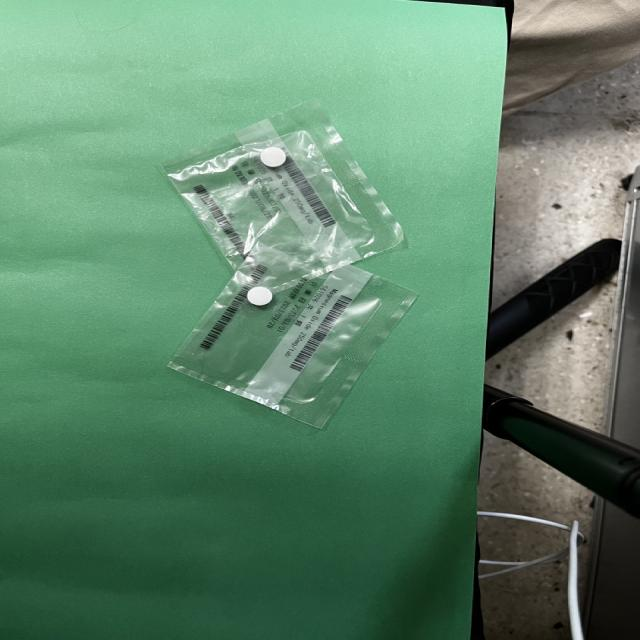Other Objects: (164, 102, 416, 427)
